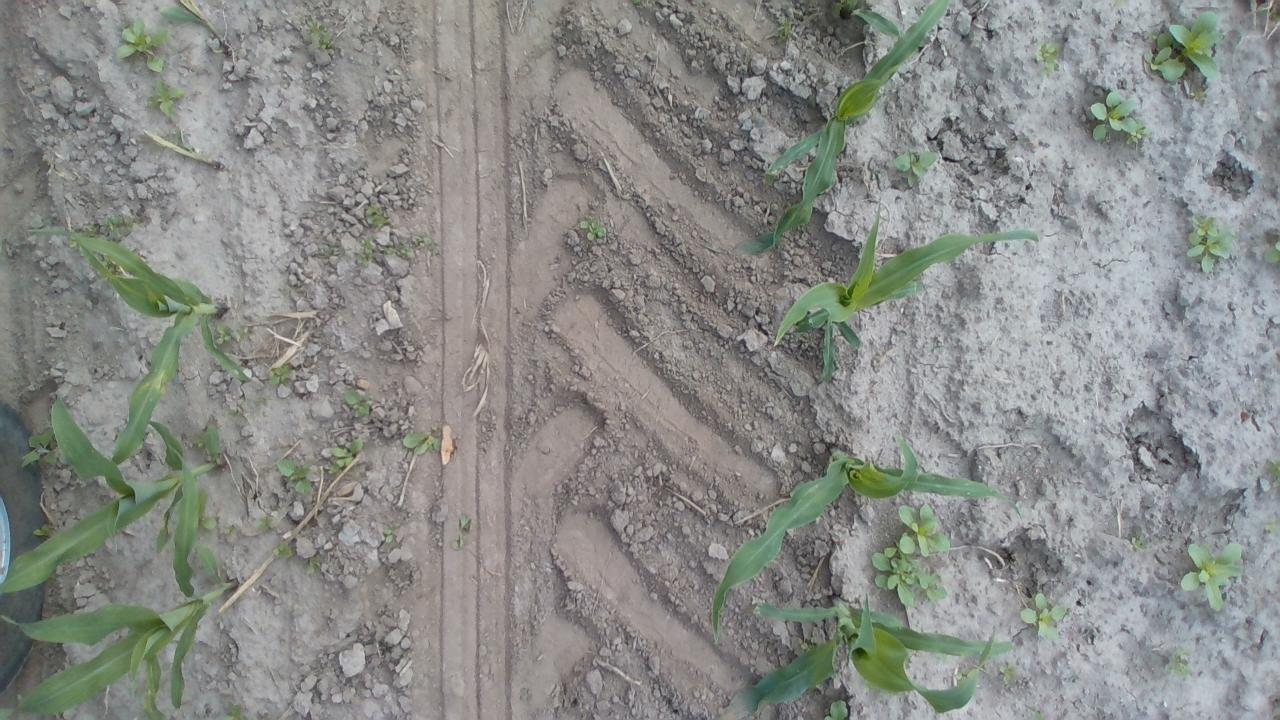Maize: (707, 428, 1024, 644), (732, 2, 959, 258), (28, 218, 248, 466), (766, 206, 1038, 381), (4, 400, 232, 606), (734, 597, 1018, 720), (0, 577, 238, 719)
Weeds: (1144, 9, 1224, 96), (1176, 538, 1248, 613), (354, 203, 442, 263), (869, 545, 946, 605), (889, 502, 961, 562), (114, 17, 178, 74), (1088, 88, 1148, 144), (1187, 213, 1233, 279), (1020, 591, 1074, 641), (890, 144, 941, 185), (271, 454, 318, 498), (304, 15, 347, 55), (322, 428, 362, 470), (151, 82, 187, 120), (343, 388, 380, 422), (402, 428, 444, 455), (1037, 36, 1064, 78), (1162, 642, 1190, 682), (577, 217, 610, 246), (314, 237, 348, 265), (1261, 226, 1280, 276), (1262, 447, 1280, 498), (449, 511, 473, 549), (250, 514, 281, 542), (303, 551, 332, 578), (1129, 532, 1155, 562), (266, 356, 294, 383), (378, 520, 400, 551), (269, 535, 293, 562), (1263, 514, 1280, 548), (214, 322, 232, 350)
